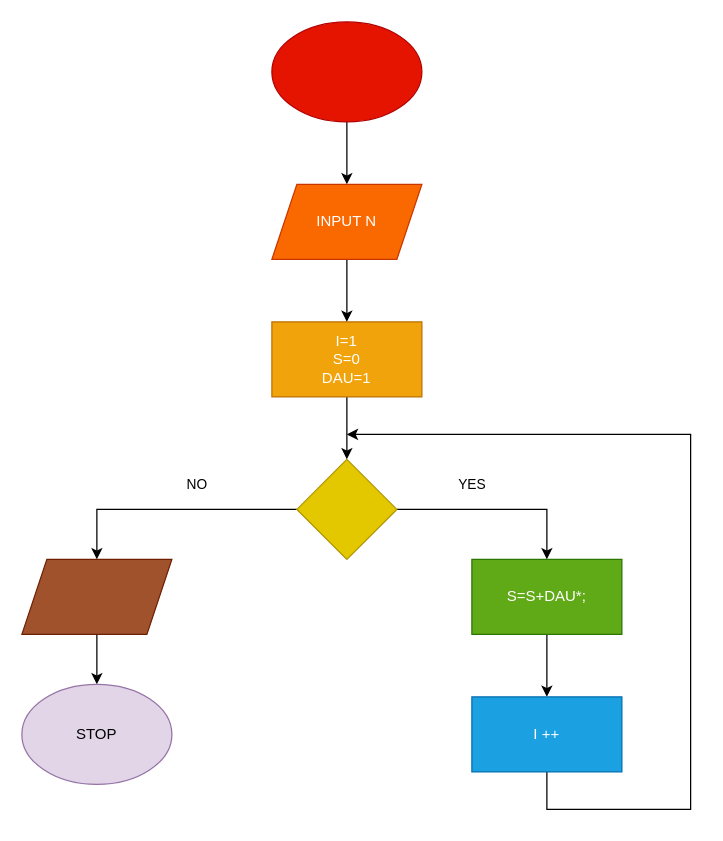
Some shapes in this 723 by 841 pixel diagram are drawn without their labels. Each missing label, with the box of its shape:
DISPLAY: (21, 558, 172, 634)
I < =M: (296, 458, 397, 559)
START: (271, 21, 422, 122)
